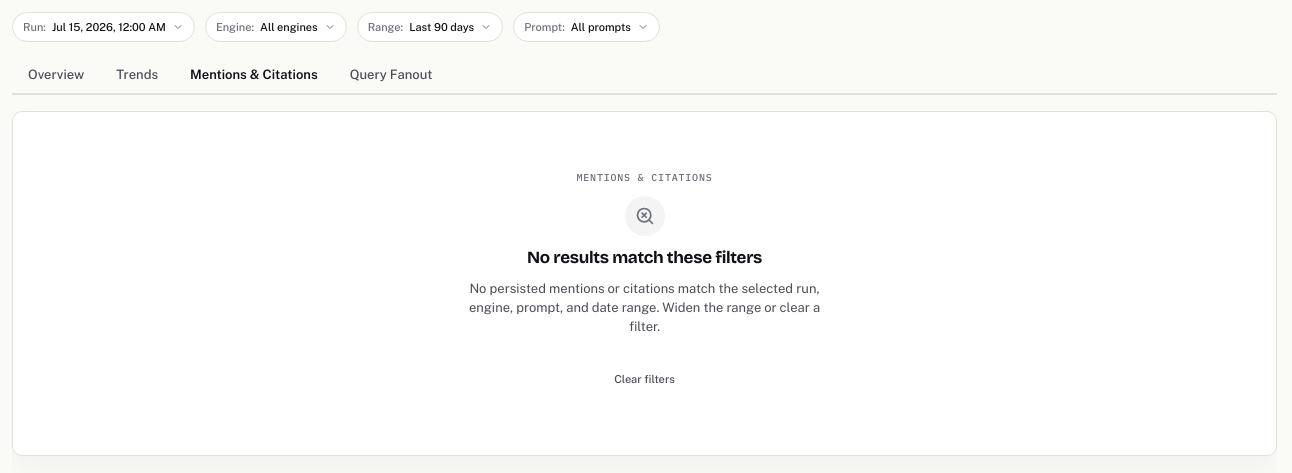
Test: VisibilityPage — Mentions & Citations tab › renders the empty state when there is no persisted evidence and no narrowing filter
What coordinates should you click on to do the following:
click the button with aria-label "Select date range"
I would click on:
 (430, 27)
Its box is [357,12,503,42].
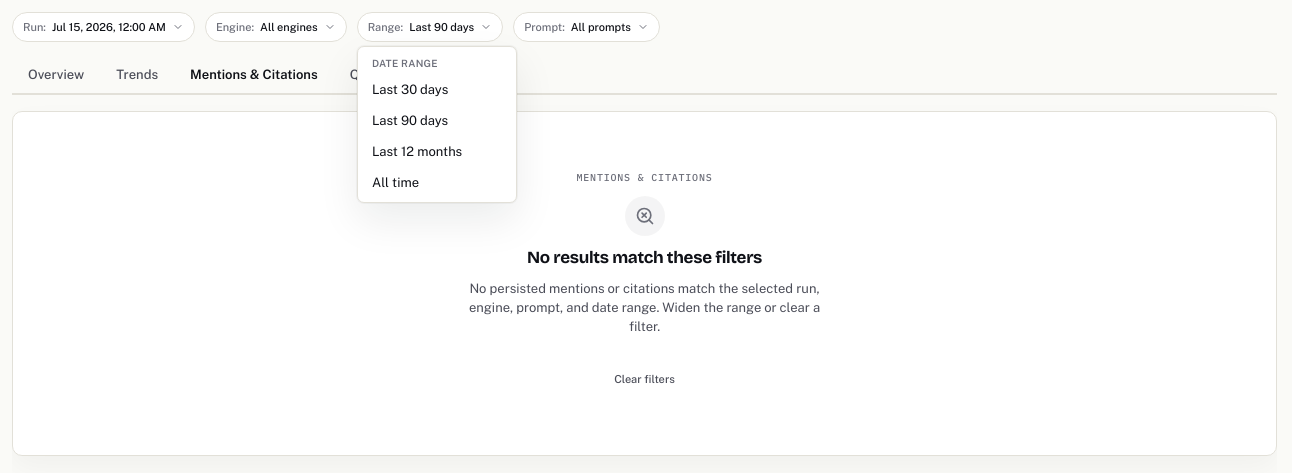
What coordinates should you click on to do the following:
click the menu item "All time"
I would click on:
 (396, 182)
Its box is [372,174,419,190].
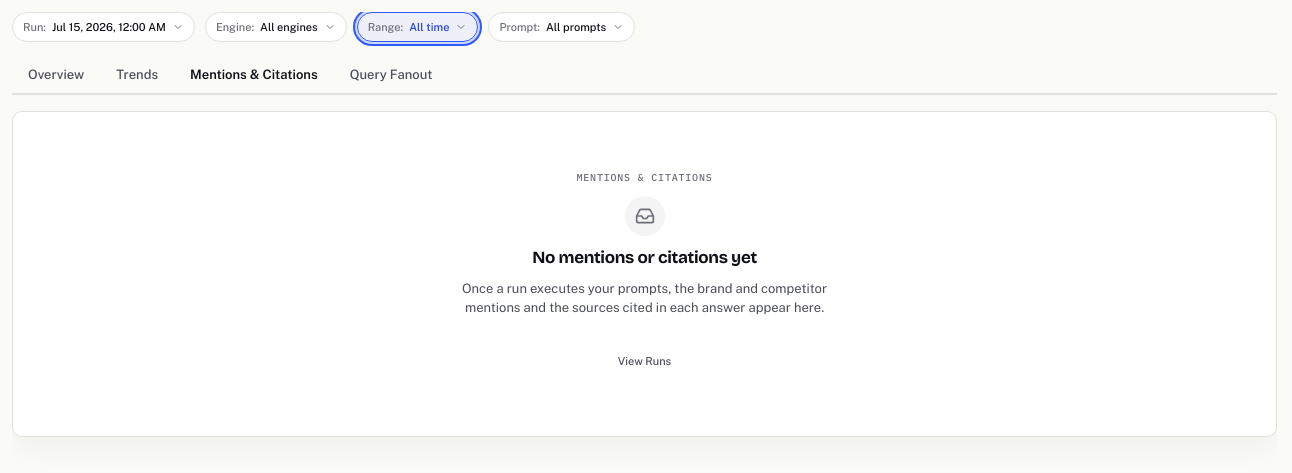
Check: the heading "No mentions or citations yet" is shown, box [532,248,757,268]
